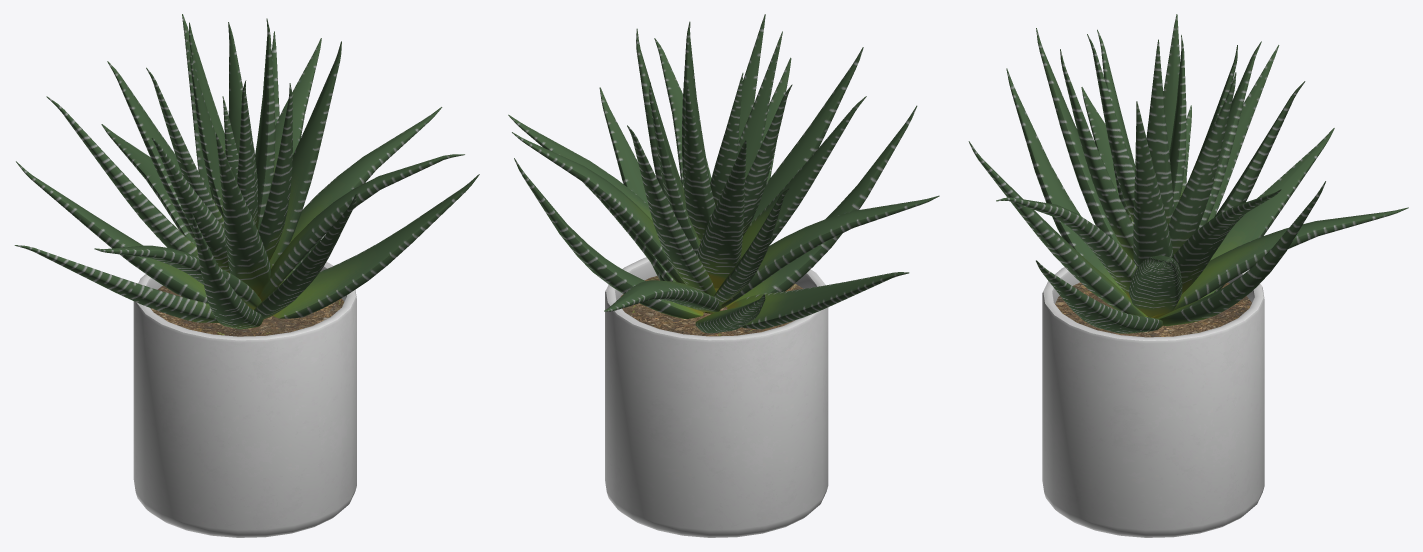
The picture shows the model from 3 angles, left to right: view 1: azimuth 30°, elevation 25°; view 2: azimuth 150°, elevation 25°; view 3: azimuth 270°, elevation 25°; orthographic projection.
Parts seen in each view (by area): view 1: SM_Plant; view 2: SM_Plant; view 3: SM_Plant.
Part boxes in pixels (left/top/right/bottom): SM_Plant: left=14, top=14, right=479, bottom=537; SM_Plant: left=508, top=14, right=939, bottom=537; SM_Plant: left=968, top=14, right=1408, bottom=537.
Size of the model in its own units: 0.1856 by 0.2009 by 0.1713.
1 material, 1 textured.
